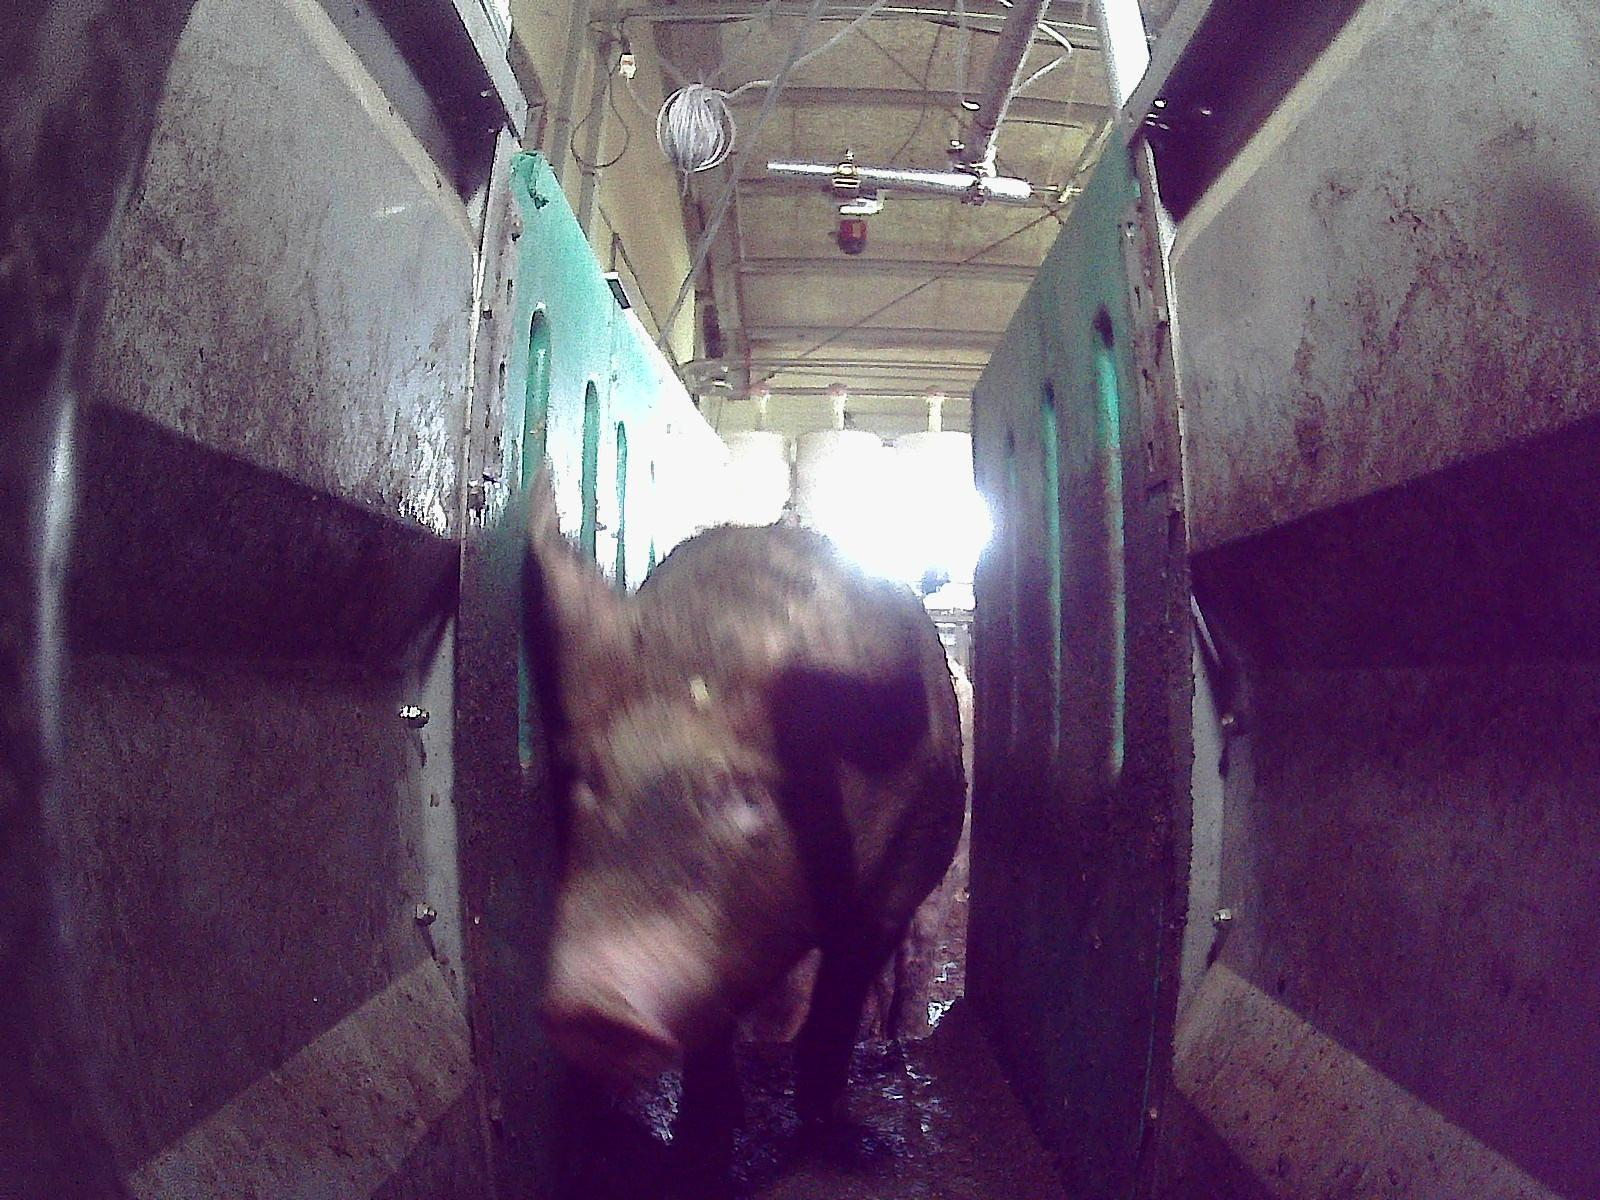Face: (546, 672, 818, 1078)
